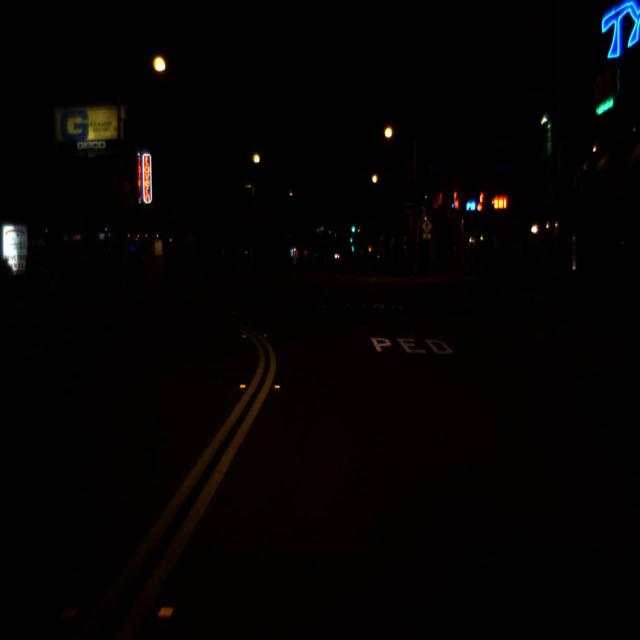go: (350, 222, 356, 232)
go traffic light: (350, 222, 356, 232)
